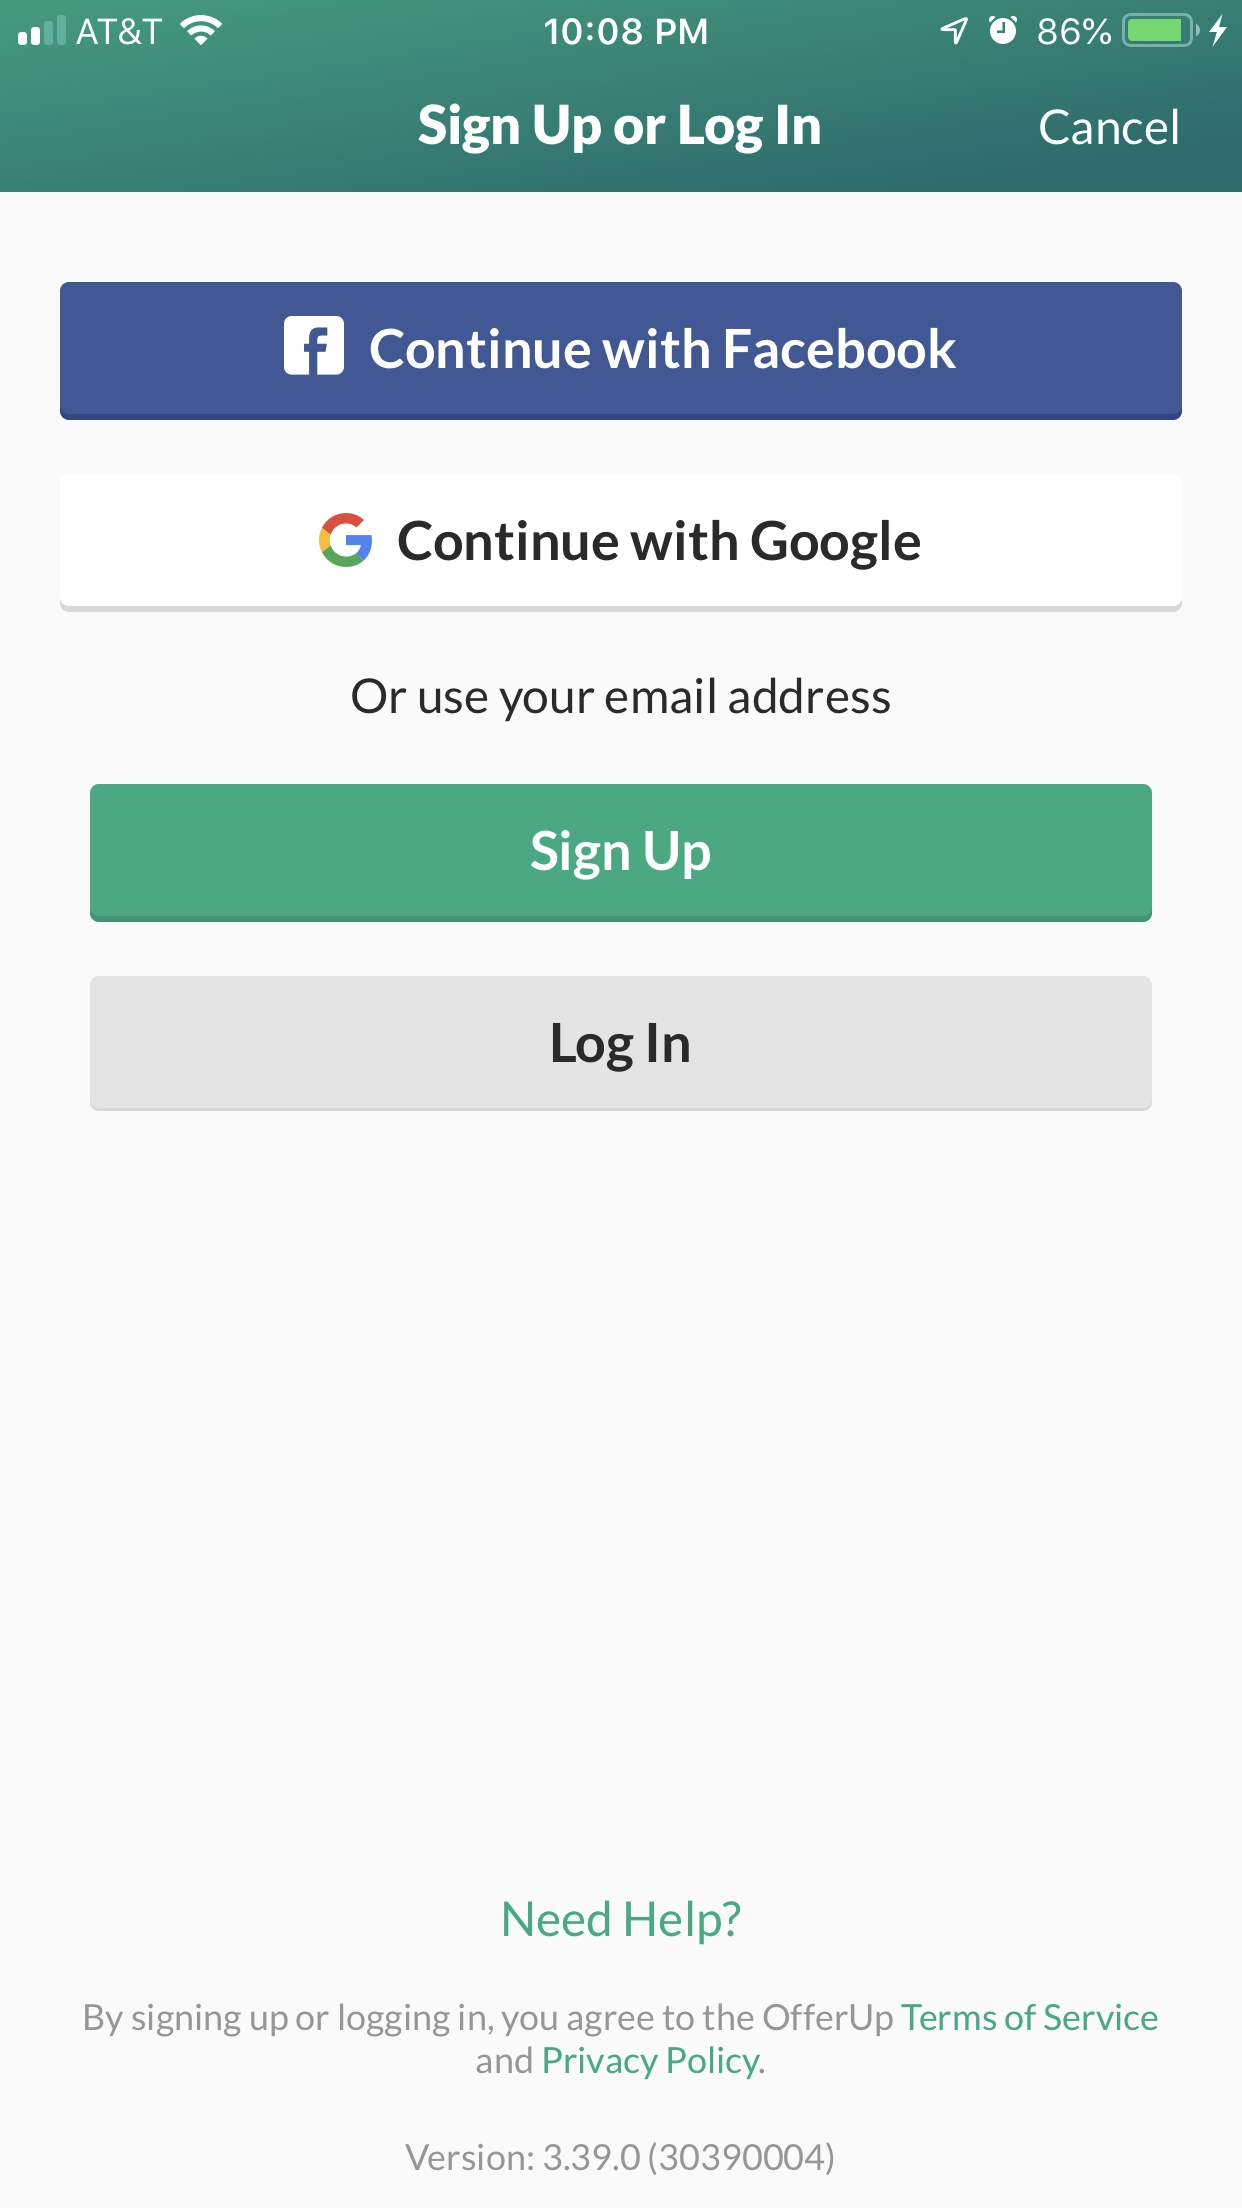Text: (85, 2003, 1159, 2081), (352, 676, 892, 723), (419, 103, 820, 156), (405, 2141, 834, 2176), (503, 1900, 742, 1946), (1039, 108, 1178, 147)
TextButton: (61, 284, 1183, 422), (61, 475, 1181, 613), (91, 784, 1153, 924), (89, 977, 1153, 1112)
UpperTaskBar: (2, 2, 1242, 49)
